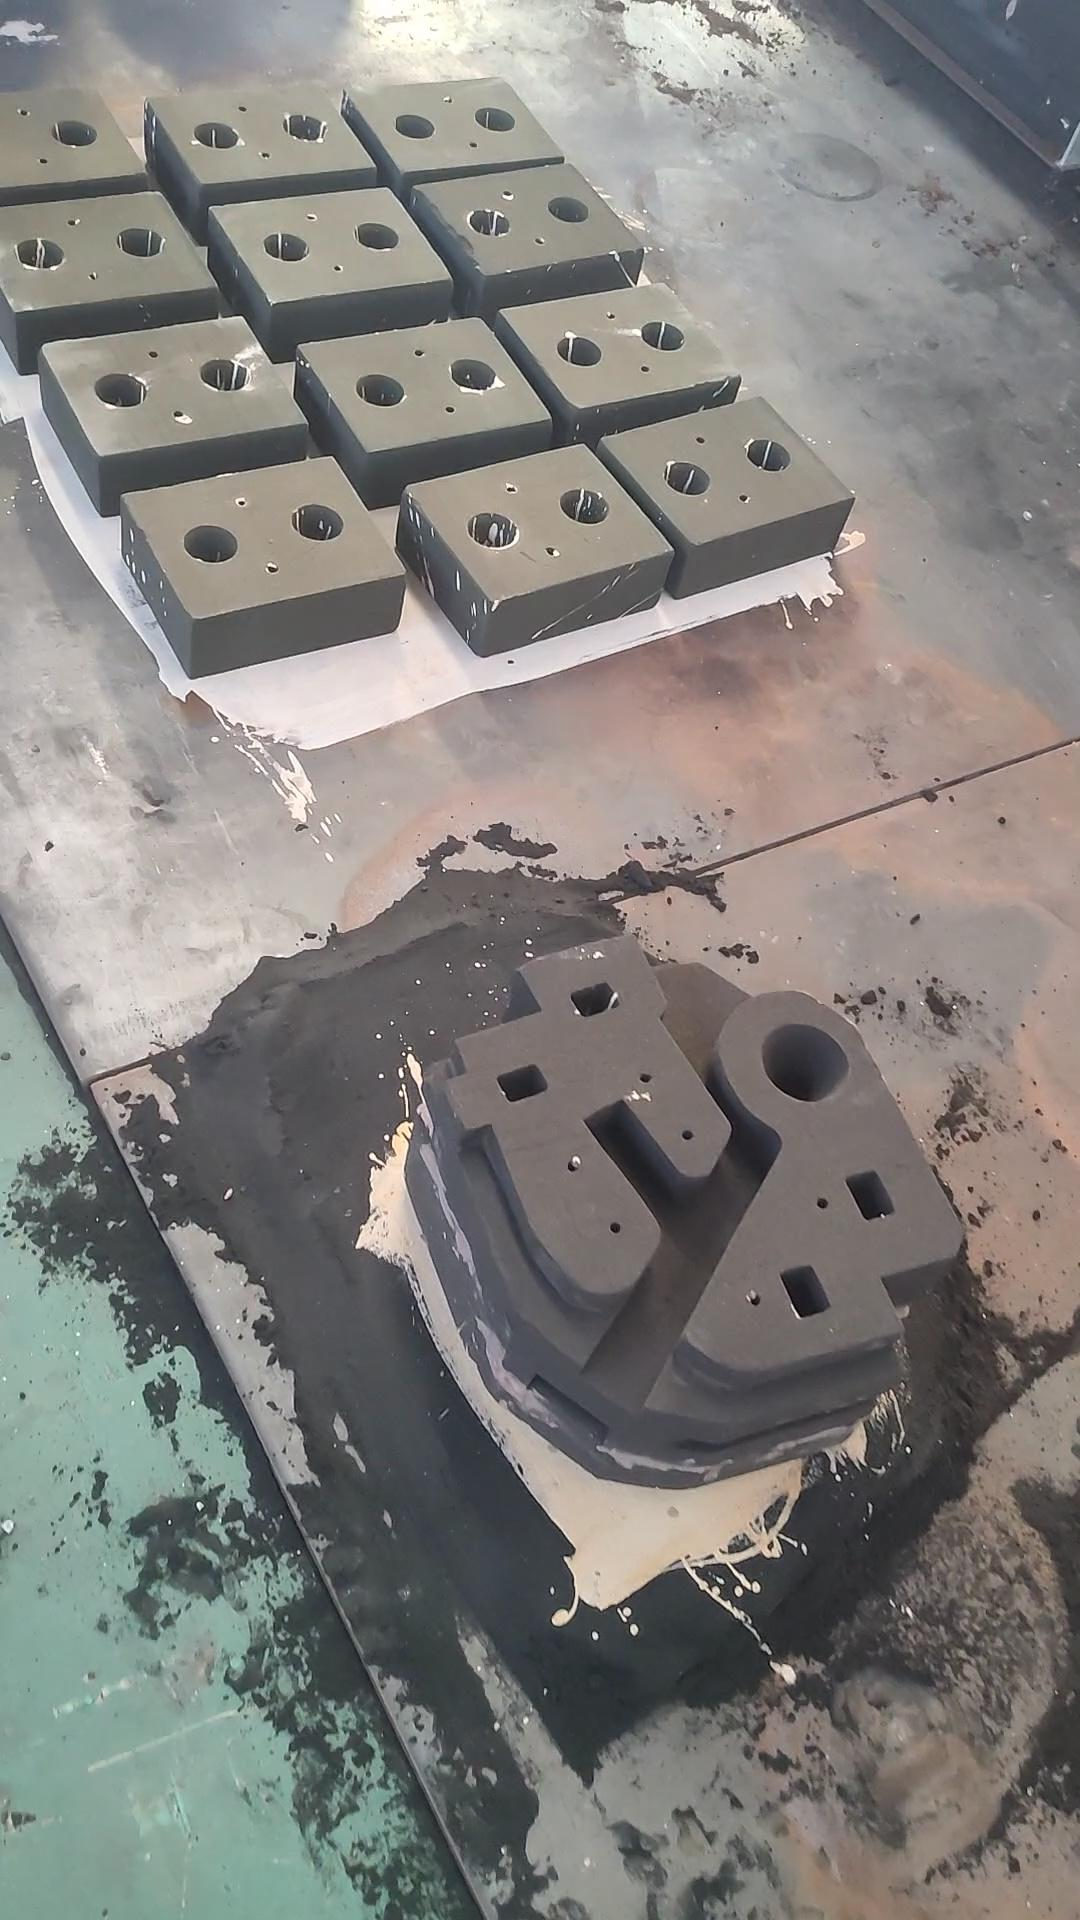pouring hole: (762, 1023, 849, 1102), (183, 525, 237, 564), (290, 504, 345, 542), (465, 512, 518, 550), (560, 488, 611, 524), (94, 375, 146, 407), (199, 357, 249, 392), (15, 237, 65, 269), (663, 460, 709, 495), (356, 375, 404, 407), (746, 438, 791, 471), (451, 359, 496, 392), (115, 228, 164, 257), (353, 222, 400, 251), (262, 233, 309, 262), (465, 208, 512, 237), (556, 338, 603, 367), (641, 320, 684, 351), (50, 119, 98, 146), (194, 121, 239, 149), (284, 115, 327, 140), (475, 105, 516, 132), (549, 196, 589, 223), (393, 113, 435, 138)
